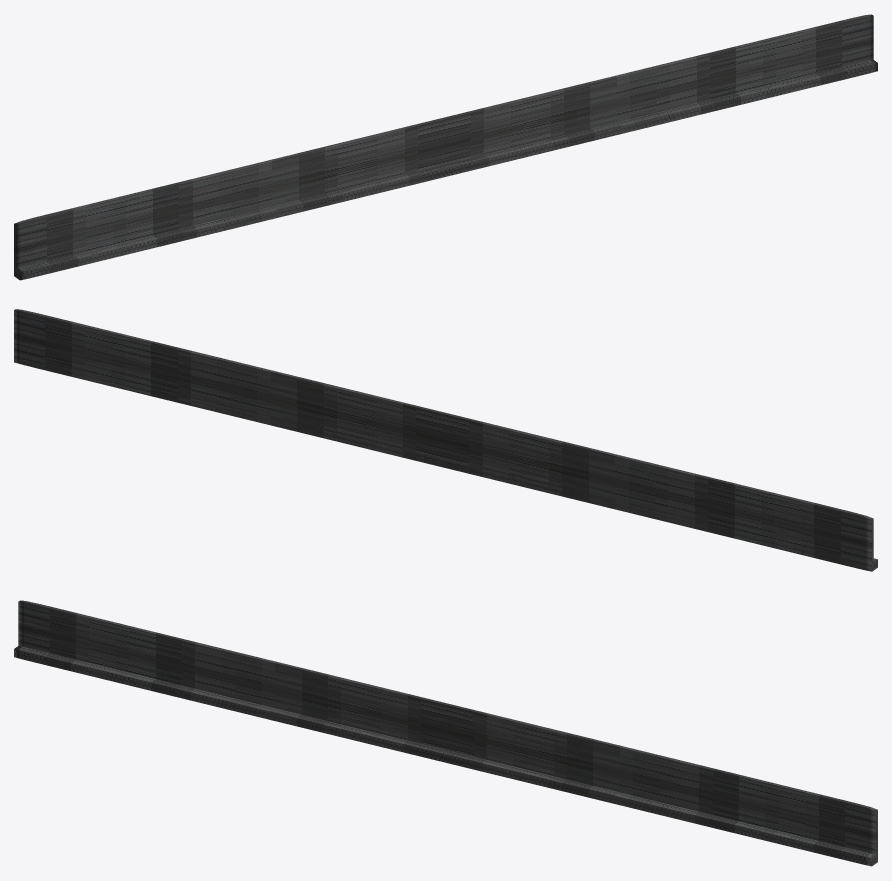
Rendered from cove.glb.
The picture shows the model from 3 angles, top to bottom: view 1: azimuth 30°, elevation 25°; view 2: azimuth 150°, elevation 25°; view 3: azimuth 330°, elevation 25°; orthographic projection.
Parts seen in each view (by area): view 1: web, return; view 2: web, return; view 3: web, return.
Boxes of the visible parts, x1,y1,x2,y2 form: web: (14,14,873,275); return: (14,59,877,280); web: (14,309,873,570); return: (14,360,877,571); web: (18,600,877,861); return: (14,645,877,866).
Bounding box in the file's own units: 2 × 0.12 × 0.025.
1 material, 1 textured.
